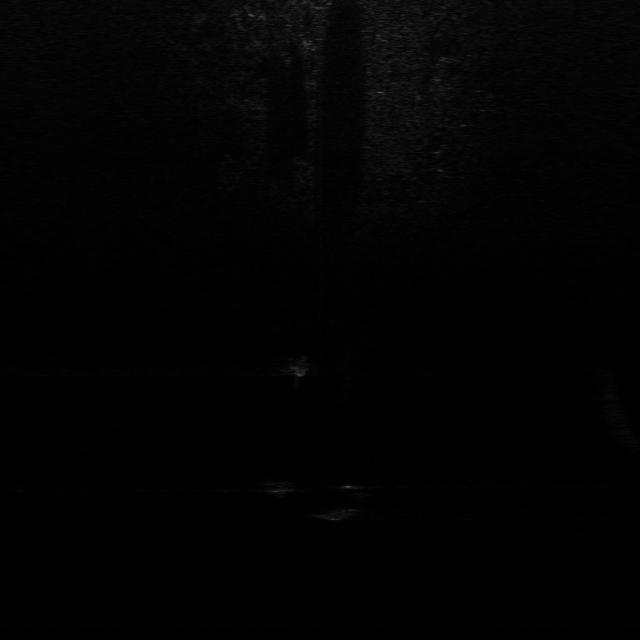cube: (258, 478, 303, 498)
square cage: (278, 352, 322, 380)
tyre: (312, 486, 374, 522)
